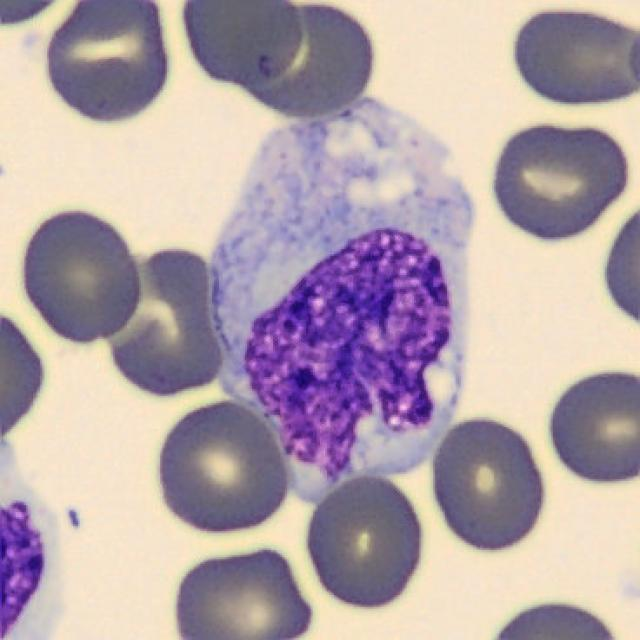Monocito: (212, 99, 471, 502)
